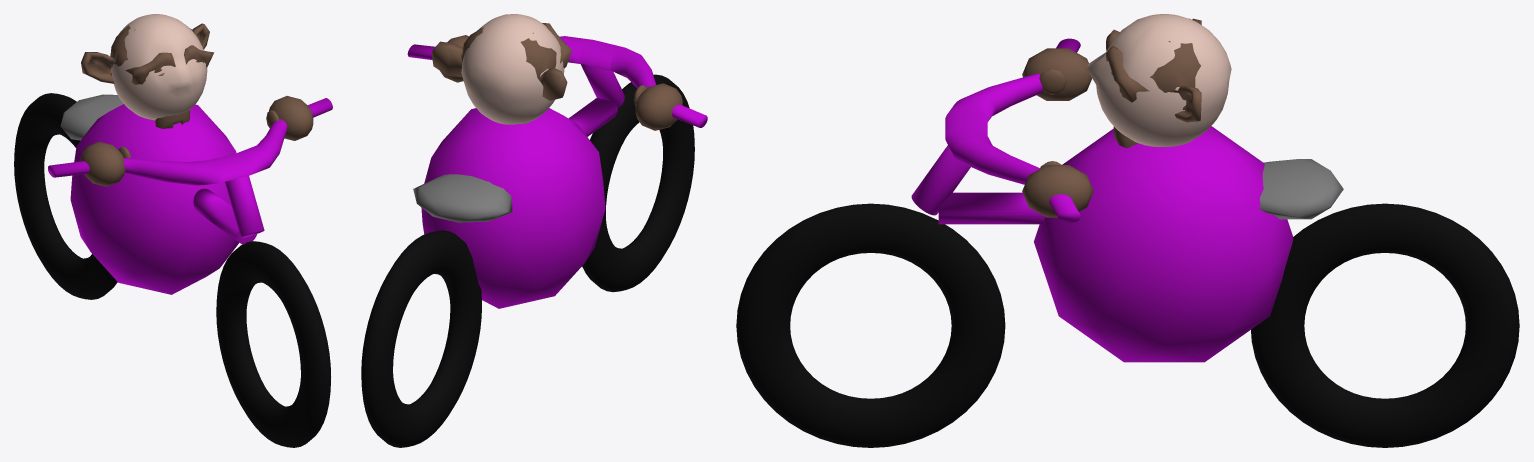
File: purpleBike.fbx
3 views of the same model, side by side, from view 1: azimuth 30°, elevation 25°; view 2: azimuth 150°, elevation 25°; view 3: azimuth 270°, elevation 25° (orthographic). The views are drawn at different scales.
Visible parts, largest first — view 1: Icosphere.004, Torus.001, Torus.000, Sphere, Cylinder, Suzanne, Icosphere.005, Cylinder.002, Icosphere.003, Cylinder.001, Icosphere; view 2: Icosphere.004, Torus.000, Torus.001, Sphere, Icosphere.005, Cylinder, Suzanne, Icosphere.003, Cylinder.001, Cylinder.002; view 3: Icosphere.004, Torus.001, Torus.000, Sphere, Cylinder, Icosphere.005, Suzanne, Cylinder.001, Icosphere, Icosphere.003, Cylinder.002.
Boxes of the visible parts, <box> form: Icosphere.004: <box>70,104,238,294</box>; Torus.001: <box>216,241,330,447</box>; Torus.000: <box>14,93,117,299</box>; Sphere: <box>110,14,207,120</box>; Cylinder: <box>48,98,332,185</box>; Suzanne: <box>81,23,214,128</box>; Icosphere.005: <box>60,94,123,140</box>; Cylinder.002: <box>225,176,264,237</box>; Icosphere.003: <box>80,141,125,186</box>; Cylinder.001: <box>193,188,256,244</box>; Icosphere: <box>269,96,313,140</box>; Icosphere.004: <box>421,108,605,308</box>; Torus.000: <box>361,230,481,447</box>; Torus.001: <box>582,74,694,292</box>; Sphere: <box>461,14,564,124</box>; Icosphere.005: <box>413,174,512,222</box>; Cylinder: <box>407,36,707,127</box>; Suzanne: <box>431,22,571,100</box>; Icosphere.003: <box>635,83,682,130</box>; Cylinder.001: <box>568,98,617,136</box>; Cylinder.002: <box>580,64,624,107</box>; Icosphere.004: <box>1034,126,1293,362</box>; Torus.001: <box>736,203,1005,447</box>; Torus.000: <box>1251,203,1519,447</box>; Sphere: <box>1086,14,1231,146</box>; Cylinder: <box>945,38,1080,223</box>; Icosphere.005: <box>1259,159,1343,219</box>; Suzanne: <box>1106,18,1201,148</box>; Cylinder.001: <box>938,192,1045,224</box>; Icosphere: <box>1022,165,1093,217</box>; Icosphere.003: <box>1022,48,1091,100</box>; Cylinder.002: <box>911,145,970,215</box>.
Bounding box in the file's own units: 5.91 × 6.89 × 11.41.
